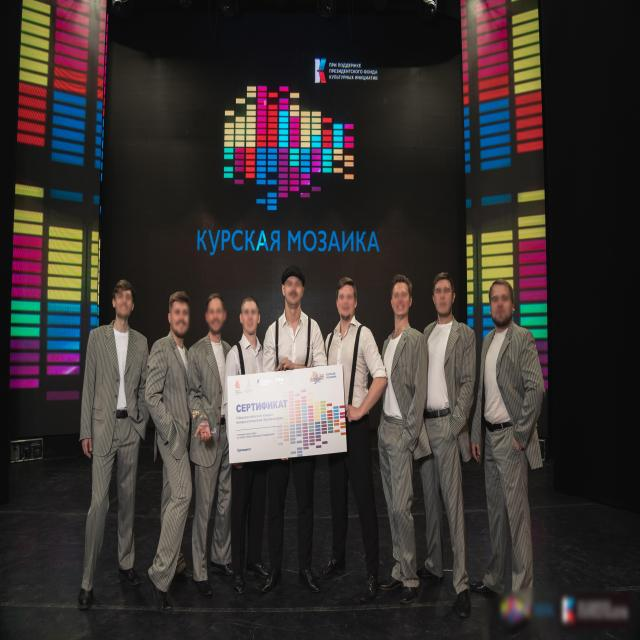Person: (62, 266, 144, 602), (474, 257, 544, 608), (413, 259, 478, 629), (259, 262, 328, 604), (370, 260, 428, 613), (324, 267, 384, 608), (216, 283, 272, 607), (185, 285, 236, 598), (149, 282, 193, 624)
